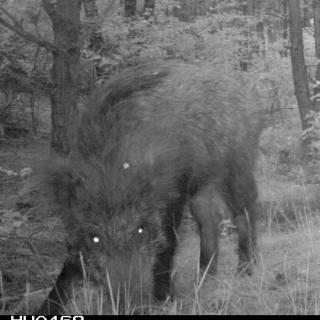Pig: (21, 30, 308, 292)
